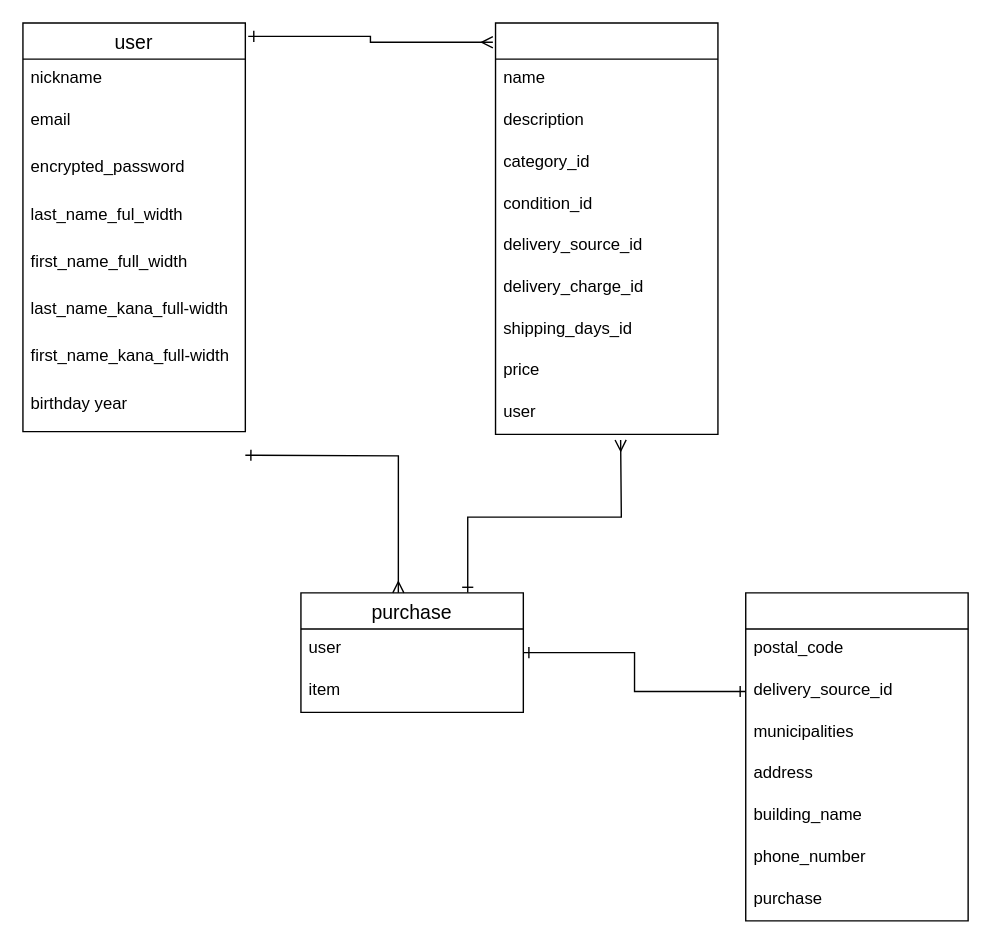
Some shapes in this 991 by 944 pixel diagram are drawn without their labels. Each missing label, with the box of its shape:
items: (494, 22, 718, 434)
shipping address: (744, 591, 968, 921)
